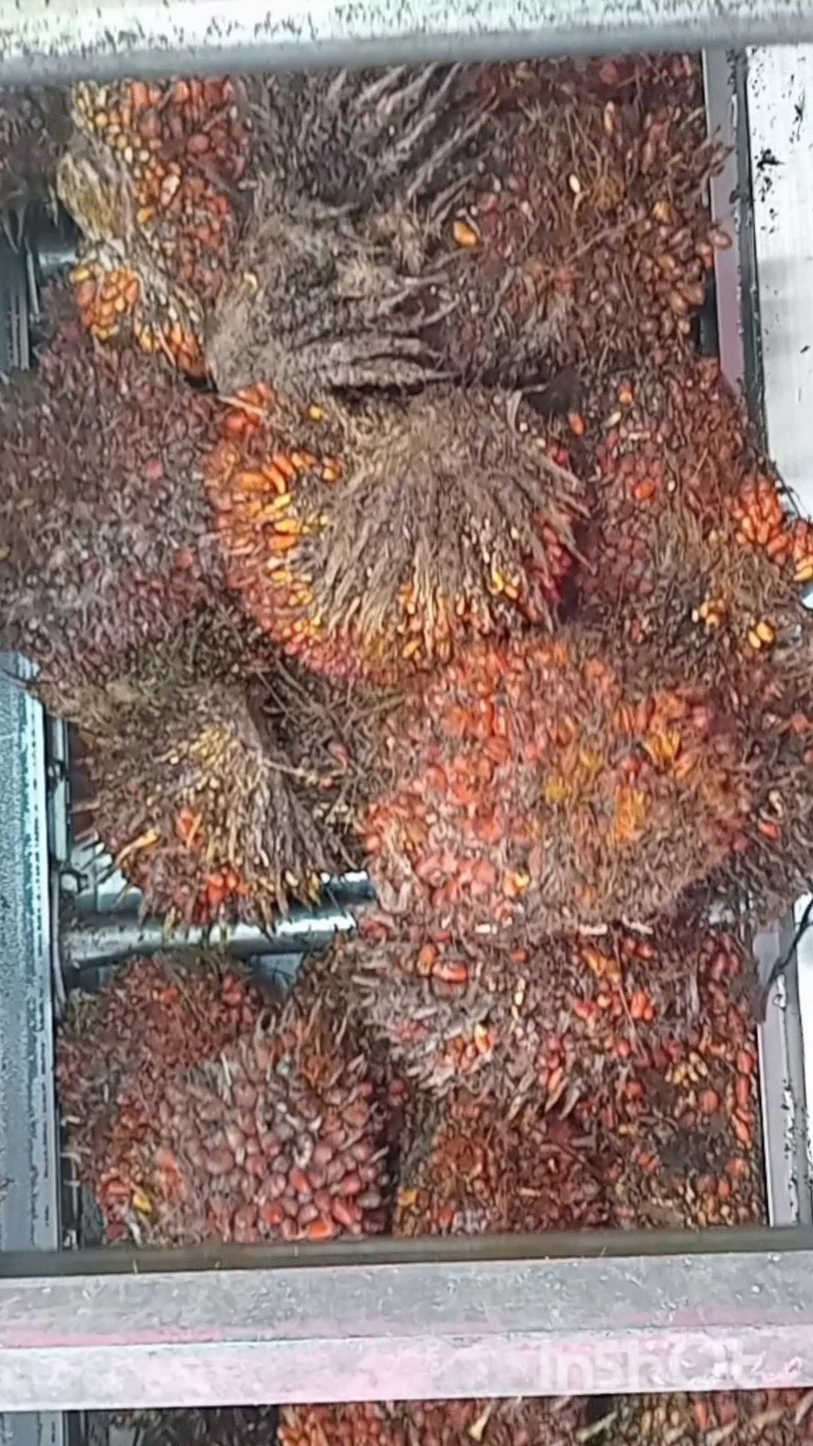Maduro: (358, 647, 741, 927), (223, 386, 572, 661), (72, 961, 375, 1239), (449, 182, 700, 374), (387, 926, 643, 1096), (599, 356, 740, 616), (398, 1088, 607, 1235), (80, 157, 236, 316), (76, 71, 258, 178), (617, 1103, 768, 1220)
SM: (79, 648, 350, 934)
Verde: (0, 331, 222, 697)
